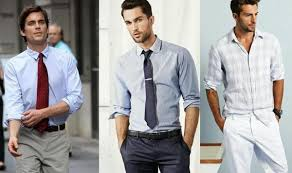F_belt: (131, 128, 184, 144), (28, 120, 69, 136)
F_shirt: (108, 38, 200, 133), (4, 48, 82, 125)
F_tie: (140, 52, 162, 138), (38, 56, 51, 119)
